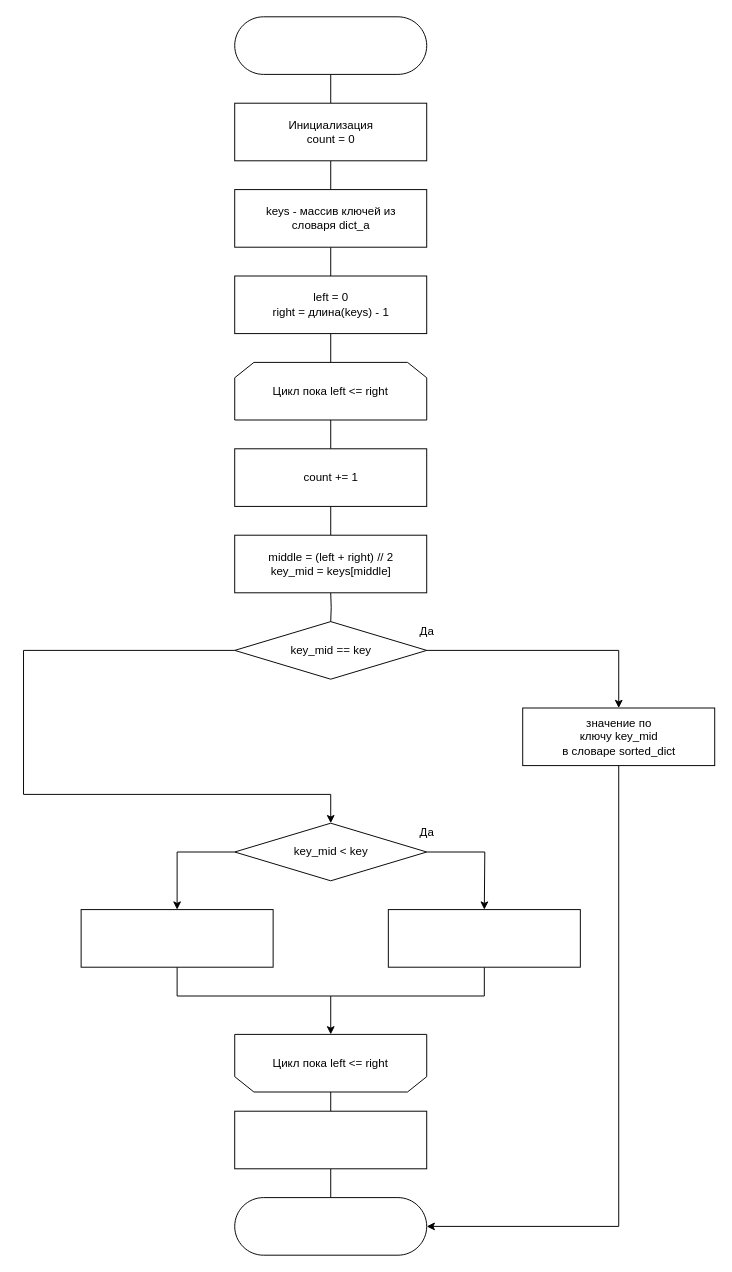
This 732x1272 diagram has some shape labels left out. Each missing label, with the centre of its shape:
count = -1 (не найден ключ в словаре): point 330,1139
left = middle + 1: point 483,938
right = middle - 1: point 176,938
Конец: point 330,1226
Начало: point 330,45
